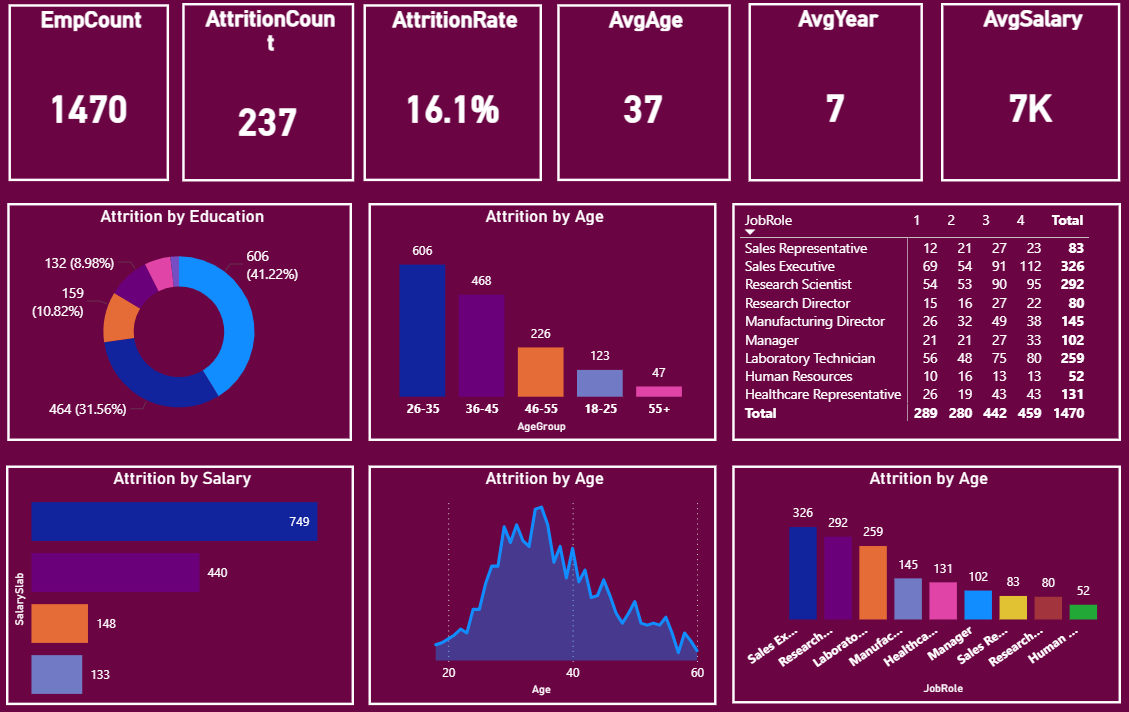

What the dashboard file says about the page in this screenshot:
{"tool":"powerbi","page":{"name":"Page 10","canvas":[1280,720],"ordinal":0},"visuals":[{"type":"card","title":"EmpCount","fields":{"Values":["Sum(Sheet1 (8).EmployeeCount)"]},"box":[17.5,16.2,157.5,173.8],"z":0},{"type":"card","title":"AttritionCount","fields":{"Values":["Sum(Sheet1 (8).AttritionCount)"]},"box":[187.5,15,168.8,175],"z":1000},{"type":"card","title":"AttritionRate","fields":{"Values":["Sheet1 (8).AttritionRate"]},"box":[366.2,16.2,175,173.8],"z":2000},{"type":"card","title":"AvgAge","fields":{"Values":["Avg(Sheet1 (8).Age)"]},"box":[556.2,16.2,170,173.8],"z":3000},{"type":"card","title":"AvgYear","fields":{"Values":["Avg(Sheet1 (8).YearsAtCompany)"]},"box":[743.8,15,171.2,175],"z":4000},{"type":"card","title":"AvgSalary","fields":{"Values":["Avg(Sheet1 (8).MonthlyIncome)"]},"box":[932.5,15,176.2,175],"z":5000},{"type":"donutChart","title":"Attrition by Education","fields":{"Category":["Sheet1 (8).EducationField"],"Y":["Sum(Sheet1 (8).EmployeeCount)"]},"box":[16.2,211.2,338.8,233.8],"z":6000},{"type":"columnChart","title":"Attrition by Age","fields":{"Category":["Sheet1 (8).AgeGroup"],"Y":["CountNonNull(Sheet1 (8).EmployeeCount)"]},"box":[370,211.2,341.2,233.8],"z":7000},{"type":"pivotTable","fields":{"Rows":["Sheet1 (8).JobRole"],"Columns":["Sheet1 (8).JobSatisfaction"],"Values":["Sum(Sheet1 (8).EmployeeCount)"]},"box":[727.5,211.2,381.2,233.8],"z":8000},{"type":"clusteredBarChart","title":"Attrition by Salary","fields":{"Y":["CountNonNull(Sheet1 (8).EmployeeCount)"],"Category":["Sheet1 (8).SalarySlab"]},"box":[15,468.8,341.2,235],"z":9000},{"type":"areaChart","title":"Attrition by Age","fields":{"Category":["Sheet1 (8).Age"],"Y":["Sum(Sheet1 (8).EmployeeCount)"]},"box":[370,468.8,341.2,235],"z":10000},{"type":"columnChart","title":"Attrition by Age","fields":{"Category":["Sheet1 (8).JobRole"],"Y":["CountNonNull(Sheet1 (8).EmployeeCount)"]},"box":[727.5,468.8,381.2,233.8],"z":11000}]}

Visuals, with their boxes on the page's 1280x720 design canvas (x1, y1, x2, y2). These are canvas units, not pixel positions in the 1129x712 screenshot, which may show the page scaled, cropped or inside an application window:
"EmpCount" card: 18, 16, 175, 190
"AttritionCount" card: 188, 15, 356, 190
"AttritionRate" card: 366, 16, 541, 190
"AvgAge" card: 556, 16, 726, 190
"AvgYear" card: 744, 15, 915, 190
"AvgSalary" card: 932, 15, 1109, 190
"Attrition by Education" donutChart: 16, 211, 355, 445
"Attrition by Age" columnChart: 370, 211, 711, 445
pivotTable - Sheet1 (8).JobRole x Sheet1 (8).JobSatisfaction: 728, 211, 1109, 445
"Attrition by Salary" clusteredBarChart: 15, 469, 356, 704
"Attrition by Age" areaChart: 370, 469, 711, 704
"Attrition by Age" columnChart: 728, 469, 1109, 703
